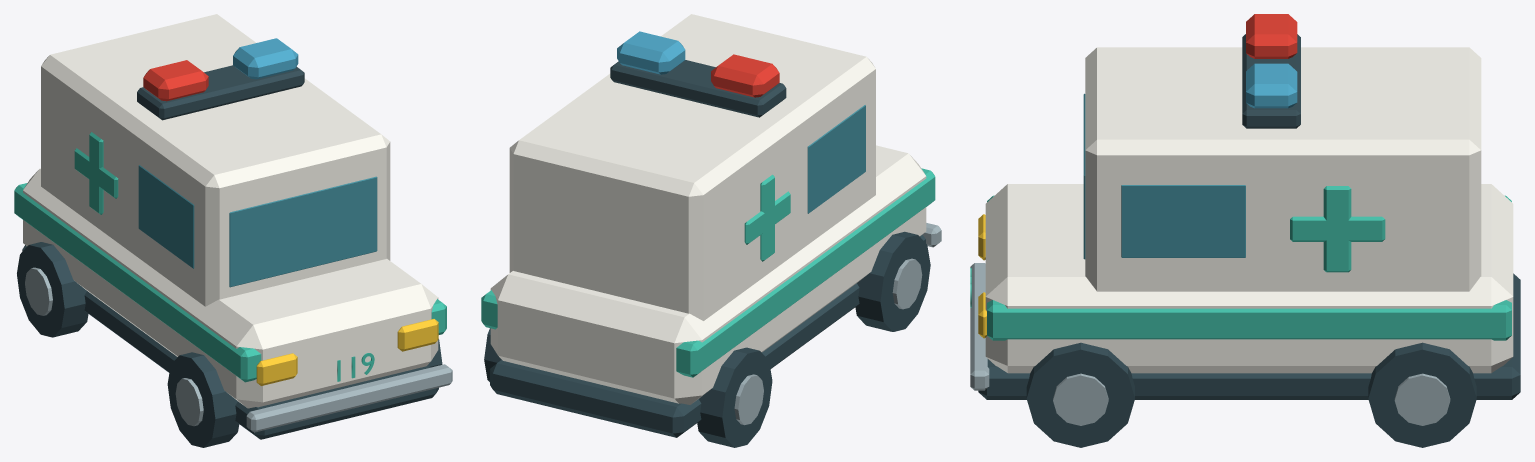
File: ambulance.glb
The picture shows the model from 3 angles, left to right: view 1: azimuth 30°, elevation 25°; view 2: azimuth 150°, elevation 25°; view 3: azimuth 270°, elevation 25°; orthographic projection. The views are drawn at different scales.
Visible parts, largest first — view 1: Vehicle; view 2: Vehicle; view 3: Vehicle.
Boxes of the visible parts, x1,y1,x2,y2 form: Vehicle: (14, 14, 452, 447); Vehicle: (481, 14, 941, 447); Vehicle: (970, 14, 1520, 447).
Size of the model in its own units: 2.09 by 2.53 by 3.75.
